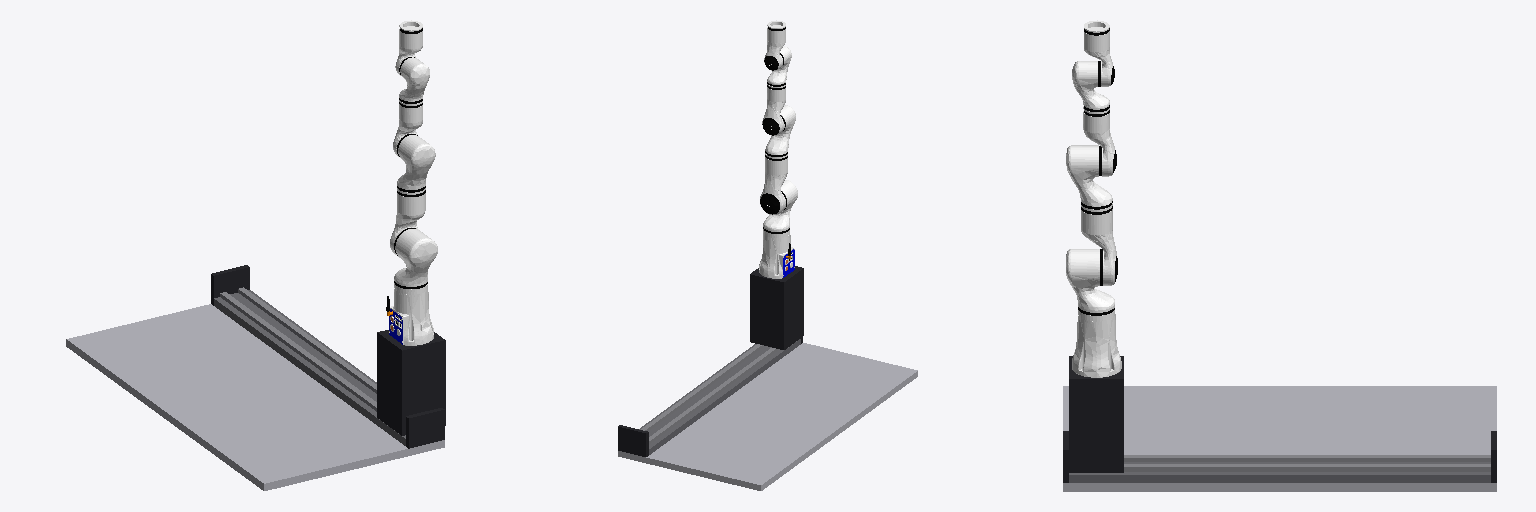
The robot description file, URDF, robot "RM75-6F-8dof-slider":
<?xml version="1.0" encoding="utf-8"?>
<!-- GENERATED by slider_rail_gen.py - do not edit by hand.
     Parametric slider/rail + RM75 8-DOF arm. Rail travel = Y, Z up.
     rail_y = 0 at -Y end, rail_y = travel at +Y end (0..travel_m).
     Model Z origin = rail_base (frame bottom).
     rail_link frame = rail module floor; slider_link frame = slider top center.
     Arm block (base_link..tcp) is verbatim from RM75-6F-8dof.genesis.urdf. -->
<robot name="RM75-6F-8dof-slider">
  <link name="rail_base">
    <inertial>
      <origin xyz="0 0 0" rpy="0 0 0" />
      <mass value="5.0" />
      <inertia ixx="0.05" ixy="0" ixz="0" iyy="0.05" iyz="0" izz="0.05" />
    </inertial>
  </link>
  <link name="frame_link">
    <inertial>
      <origin xyz="0.000000 0.000000 0.000000" rpy="0 0 0" />
      <mass value="8.000" />
      <inertia ixx="0.01" ixy="0" ixz="0" iyy="0.01" iyz="0" izz="0.01" />
    </inertial>
    <visual>
      <origin xyz="-0.200000 0.000000 0.010000" rpy="0 0 0" />
      <geometry>
        <box size="0.500000 0.948000 0.020000" />
      </geometry>
      <material name="frame_mat">
        <color rgba="0.750000 0.750000 0.780000 1.000000" />
      </material>
    </visual>
  </link>
  <joint name="frame_mount" type="fixed">
    <origin xyz="0 0 0" rpy="0 0 0" />
    <parent link="rail_base" />
    <child link="frame_link" />
  </joint>
  <link name="rail_link">
    <inertial>
      <origin xyz="0.000000 0.000000 0.025000" rpy="0 0 0" />
      <mass value="6.000" />
      <inertia ixx="0.01" ixy="0" ixz="0" iyy="0.01" iyz="0" izz="0.01" />
    </inertial>
    <visual>
      <origin xyz="0.000000 0.000000 0.010000" rpy="0 0 0" />
      <geometry>
        <box size="0.100000 0.920000 0.020000" />
      </geometry>
      <material name="rail_deck_mat">
        <color rgba="0.460000 0.460000 0.480000 1.000000" />
      </material>
    </visual>
    <visual>
      <origin xyz="-0.025000 0.000000 0.025000" rpy="0 0 0" />
      <geometry>
        <box size="0.016000 0.920000 0.010000" />
      </geometry>
      <material name="rail_metal_mat">
        <color rgba="0.580000 0.580000 0.600000 1.000000" />
      </material>
    </visual>
    <visual>
      <origin xyz="0.025000 0.000000 0.025000" rpy="0 0 0" />
      <geometry>
        <box size="0.016000 0.920000 0.010000" />
      </geometry>
      <material name="rail_metal_mat">
        <color rgba="0.580000 0.580000 0.600000 1.000000" />
      </material>
    </visual>
    <visual>
      <origin xyz="0.000000 -0.467000 0.040000" rpy="0 0 0" />
      <geometry>
        <box size="0.100000 0.014000 0.080000" />
      </geometry>
      <material name="rail_dark_mat">
        <color rgba="0.180000 0.180000 0.200000 1.000000" />
      </material>
    </visual>
    <visual>
      <origin xyz="0.000000 0.467000 0.040000" rpy="0 0 0" />
      <geometry>
        <box size="0.100000 0.014000 0.080000" />
      </geometry>
      <material name="rail_dark_mat">
        <color rgba="0.180000 0.180000 0.200000 1.000000" />
      </material>
    </visual>
  </link>
  <joint name="rail_mount" type="fixed">
    <origin xyz="0 0 0.020000" rpy="0 0 0" />
    <parent link="rail_base" />
    <child link="rail_link" />
  </joint>
  <link name="slider_link">
    <inertial>
      <origin xyz="0.000000 0.000000 -0.113000" rpy="0 0 0" />
      <mass value="2.000" />
      <inertia ixx="0.01" ixy="0" ixz="0" iyy="0.01" iyz="0" izz="0.01" />
    </inertial>
    <visual>
      <origin xyz="0.000000 0.000000 -0.113000" rpy="0 0 0" />
      <geometry>
        <box size="0.120000 0.120000 0.226000" />
      </geometry>
      <material name="slider_mat">
        <color rgba="0.180000 0.180000 0.200000 1.000000" />
      </material>
    </visual>
  </link>
  <joint name="rail_y" type="prismatic">
    <origin xyz="0 -0.400000 0.256000" rpy="0 0 0" />
    <parent link="rail_link" />
    <child link="slider_link" />
    <axis xyz="0 1 0" />
    <limit lower="0.000000" upper="0.800000" velocity="0.20" effort="500" />
  </joint>
  <joint name="arm_mount" type="fixed">
    <origin xyz="0.000000 0.000000 0.000000" rpy="0 0 0" />
    <parent link="slider_link" />
    <child link="base_link" />
  </joint>
  <link name="base_link">
    <inertial>
      <origin xyz="0.00049987 5.2709E-05 0.060019" rpy="0 0 0" />
      <mass value="1.862" />
      <inertia ixx="0.0017232" ixy="-3.1058E-06" ixz="-3.7924E-05"
               iyy="0.0017051" iyz="1.3691E-06" izz="0.00090158" />
    </inertial>
    <visual>
      <origin xyz="0 0 0" rpy="0 0 0" />
      <geometry>
        <mesh filename="meshes/base_link.dae" />
      </geometry>
    </visual>
  </link>
  <link name="link_1">
    <inertial>
      <origin xyz="0.000241 -0.013273 -0.00995" rpy="0 0 0" />
      <mass value="1.574" />
      <inertia ixx="0.002487573" ixy="0.000009663" ixz="-0.000007909"
               iyy="0.002321038" iyz="0.000179393" izz="0.001450554" />
    </inertial>
    <visual>
      <origin xyz="0 0 0" rpy="0 0 0" />
      <geometry>
        <mesh filename="meshes/link_1.dae" />
      </geometry>
    </visual>
  </link>
  <joint name="joint_1" type="revolute">
    <origin xyz="0 0 0.2405" rpy="0 0 0" />
    <parent link="base_link" />
    <child link="link_1" />
    <axis xyz="0 0 1" />
    <limit lower="-3.106" upper="3.106" effort="60" velocity="3.14" />
  </joint>
  <link name="link_2">
    <inertial>
      <origin xyz="-0.000357 -0.106789 0.005329" rpy="0 0 0" />
      <mass value="1.217" />
      <inertia ixx="0.003494121" ixy="0.000002921" ixz="-0.000005613"
               iyy="0.000892721" iyz="-0.000583884" izz="0.003444080" />
    </inertial>
    <visual>
      <origin xyz="0 0 0" rpy="0 0 0" />
      <geometry>
        <mesh filename="meshes/link_2.dae" />
      </geometry>
    </visual>
  </link>
  <joint name="joint_2" type="revolute">
    <origin xyz="0 0 0" rpy="-1.5708 0 0" />
    <parent link="link_1" />
    <child link="link_2" />
    <axis xyz="0 0 1" />
    <limit lower="-2.2689" upper="2.2689" effort="60" velocity="3.14" />
  </joint>
  <link name="link_3">
    <inertial>
      <origin xyz="0.000003 -0.01398 -0.011324" rpy="0 0 0" />
      <mass value="1.11" />
      <inertia ixx="0.001836663" ixy="0.000002259" ixz="-0.000004216"
               iyy="0.001498875" iyz="0.000037167" izz="0.001062545" />
    </inertial>
    <visual>
      <origin xyz="0 0 0" rpy="0 0 0" />
      <geometry>
        <mesh filename="meshes/link_3.dae" />
      </geometry>
    </visual>
  </link>
  <joint name="joint_3" type="revolute">
    <origin xyz="0 -0.256 0" rpy="1.5708 0 0" />
    <parent link="link_2" />
    <child link="link_3" />
    <axis xyz="0 0 1" />
    <limit lower="-3.106" upper="3.106" effort="30" velocity="3.14" />
  </joint>
  <link name="link_4">
    <inertial>
      <origin xyz="-0.000005 -0.084658 0.004747" rpy="0 0 0" />
      <mass value="0.685" />
      <inertia ixx="0.001282444" ixy="-0.000000551" ixz="-0.000000630"
               iyy="0.000373013" iyz="-0.000232084" izz="0.001256177" />
    </inertial>
    <visual>
      <origin xyz="0 0 0" rpy="0 0 0" />
      <geometry>
        <mesh filename="meshes/link_4.dae" />
      </geometry>
    </visual>
  </link>
  <joint name="joint_4" type="revolute">
    <origin xyz="0 0 0" rpy="-1.5708 0 0" />
    <parent link="link_3" />
    <child link="link_4" />
    <axis xyz="0 0 1" />
    <limit lower="-2.356" upper="2.356" effort="30" velocity="3.14" />
  </joint>
  <link name="link_5">
    <inertial>
      <origin xyz="0.000078 -0.012937 -0.008781" rpy="0 0 0" />
      <mass value="0.619" />
      <inertia ixx="0.000627336" ixy="0.000001636" ixz="-0.000001345"
               iyy="0.000542455" iyz="0.000034970" izz="0.000370291" />
    </inertial>
    <visual>
      <origin xyz="0 0 0" rpy="0 0 0" />
      <geometry>
        <mesh filename="meshes/link_5.dae" />
      </geometry>
    </visual>
  </link>
  <joint name="joint_5" type="revolute">
    <origin xyz="0 -0.21 0" rpy="1.5708 0 0" />
    <parent link="link_4" />
    <child link="link_5" />
    <axis xyz="0 0 1" />
    <limit lower="-3.106" upper="3.106" effort="10" velocity="3.14" />
  </joint>
  <link name="link_6">
    <inertial>
      <origin xyz="-0.000014 -0.078524 0.002819" rpy="0 0 0" />
      <mass value="0.602" />
      <inertia ixx="0.000780774" ixy="-0.000000121" ixz="-0.000000469"
               iyy="0.000289973" iyz="-0.000120513" izz="0.000763955" />
    </inertial>
    <visual>
      <origin xyz="0 0 0" rpy="0 0 0" />
      <geometry>
        <mesh filename="meshes/link_6.dae" />
      </geometry>
    </visual>
  </link>
  <joint name="joint_6" type="revolute">
    <origin xyz="0 0 0" rpy="-1.5708 0 0" />
    <parent link="link_5" />
    <child link="link_6" />
    <axis xyz="0 0 1" />
    <limit lower="-2.234" upper="2.234" effort="10" velocity="3.14" />
  </joint>
  <link name="link_7">
    <inertial>
      <origin xyz="0.001094 -0.000077 -0.010119" rpy="0 0 0" />
      <mass value="0.144" />
      <inertia ixx="0.000044123" ixy="-0.000000064" ixz="0.0000003"
               iyy="0.000035078" iyz="-0.000000029" izz="0.000065445" />
    </inertial>
    <visual>
      <origin xyz="0 0 0" rpy="0 0 0" />
      <geometry>
        <mesh filename="meshes/link_7.dae" />
      </geometry>
    </visual>
  </link>
  <joint name="joint_7" type="revolute">
    <origin xyz="0 -0.1612 0" rpy="1.5708 0 0" />
    <parent link="link_6" />
    <child link="link_7" />
    <axis xyz="0 0 1" />
    <limit lower="-6.28" upper="6.28" effort="10" velocity="3.14" />
  </joint>
  <link name="link_8">
    <inertial>
      <origin xyz="0.003680 -0.012695 0.076874" rpy="0 0 0" />
      <mass value="0.4829" />
      <inertia ixx="0.0004135" ixy="-0.000003908" ixz="0.00003379"
               iyy="0.0002717" iyz="0.00001544" izz="0.0003621" />
    </inertial>
    <visual>
      <origin xyz="0 0 0" rpy="0 0 0" />
      <geometry>
        <mesh filename="meshes/probe45.dae" />
      </geometry>
    </visual>
  </link>
  <joint name="joint_8" type="fixed">
    <origin xyz="0 0 0" rpy="0 0 3.141592654" />
    <parent link="link_7" />
    <child link="link_8" />
  </joint>
  <link name="tcp" />
  <joint name="link_7_to_tcp" type="fixed">
    <origin xyz="0 -0.01523 0.12135" rpy="0.017732743 0.870791073 -1.547861183" />
    <parent link="link_7" />
    <child link="tcp" />
  </joint>
</robot>

--- Render facts (derived) ---
The picture shows the robot from 3 angles, left to right: view 1: azimuth 30°, elevation 25°; view 2: azimuth 150°, elevation 25°; view 3: azimuth 270°, elevation 25°; orthographic projection.
Robot: RM75-6F-8dof-slider — 14 links, 13 joints (7 revolute, 1 prismatic, 5 fixed); root link rail_base; default pose: every joint at zero.
Links seen in each view (by area): view 1: frame_link, rail_link, slider_link, base_link, link_1, link_3, link_5, link_2, link_6, link_4; view 2: frame_link, rail_link, slider_link, base_link, link_2, link_4, link_1, link_6, link_3; view 3: frame_link, rail_link, slider_link, base_link, link_1, link_3, link_2, link_5, link_6, link_4.
Link boxes in pixels (bbox=[...]): frame_link: bbox=[66, 304, 444, 490]; rail_link: bbox=[211, 265, 444, 448]; slider_link: bbox=[377, 330, 445, 435]; base_link: bbox=[386, 285, 433, 345]; link_1: bbox=[393, 227, 437, 290]; link_3: bbox=[396, 133, 435, 193]; link_5: bbox=[399, 56, 429, 104]; link_2: bbox=[390, 189, 425, 254]; link_6: bbox=[395, 20, 422, 75]; link_4: bbox=[393, 101, 422, 156]; frame_link: bbox=[618, 343, 917, 490]; rail_link: bbox=[618, 337, 802, 456]; slider_link: bbox=[750, 266, 803, 349]; base_link: bbox=[759, 231, 794, 278]; link_2: bbox=[760, 154, 787, 214]; link_4: bbox=[762, 84, 785, 135]; link_1: bbox=[763, 180, 797, 234]; link_6: bbox=[764, 20, 785, 70]; link_3: bbox=[765, 105, 795, 157]; frame_link: bbox=[1063, 386, 1496, 491]; rail_link: bbox=[1063, 431, 1496, 482]; slider_link: bbox=[1069, 356, 1123, 472]; base_link: bbox=[1072, 312, 1121, 377]; link_1: bbox=[1066, 249, 1114, 317]; link_3: bbox=[1066, 145, 1112, 210]; link_2: bbox=[1081, 205, 1117, 285]; link_5: bbox=[1072, 61, 1109, 112]; link_6: bbox=[1084, 20, 1114, 86]; link_4: bbox=[1083, 108, 1116, 176].
Bounding box of the posed robot: 0.51 × 0.948 × 1.1 m (x, y, z).
7 mesh visuals loaded from 9 distinct referenced files (7 Collada DAE); not drawn: 2 (reference not matched to a file when rendering).
